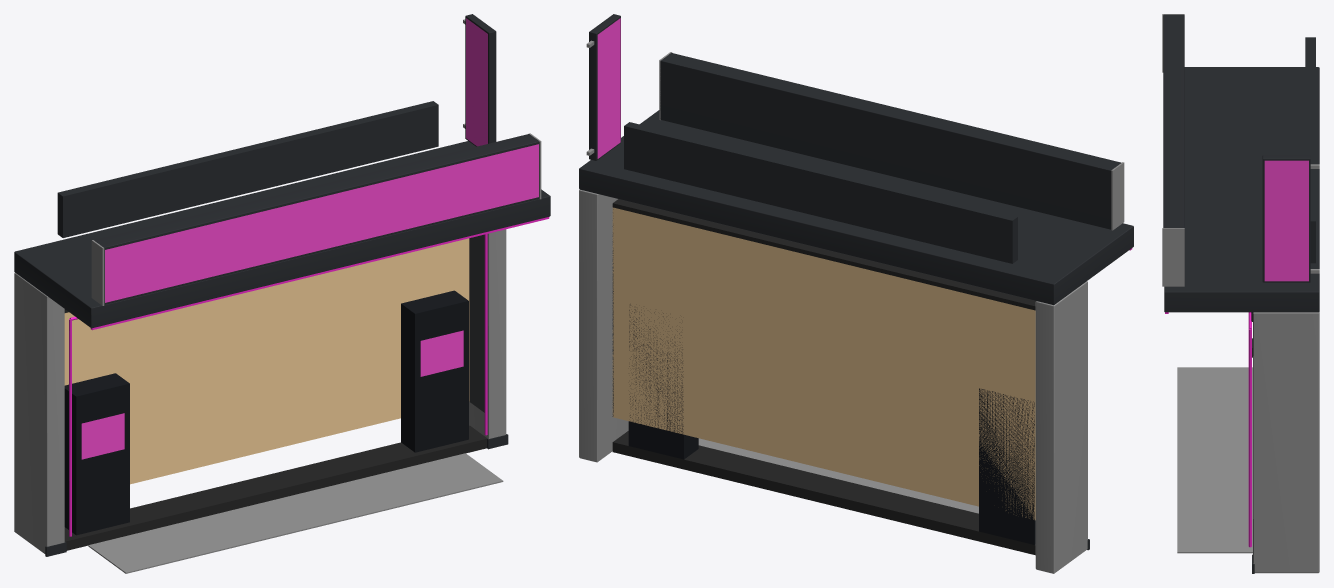
The model's file is St_Shop_Arcade_A.fbx.
3 renders of one model, left to right at view 1: azimuth 30°, elevation 25°; view 2: azimuth 150°, elevation 25°; view 3: azimuth 270°, elevation 25°, orthographic. The views are drawn at different scales.
Parts seen in each view (by area): view 1: St_Shop_Arcade_A_LOD0; view 2: St_Shop_Arcade_A_LOD0; view 3: St_Shop_Arcade_A_LOD0.
Boxes of the visible parts, left/top/right/bottom form: St_Shop_Arcade_A_LOD0: left=14, top=14, right=550, bottom=573; St_Shop_Arcade_A_LOD0: left=579, top=14, right=1133, bottom=573; St_Shop_Arcade_A_LOD0: left=1162, top=14, right=1319, bottom=573.
Size of what is drawn, in the model's own units: 6.02 by 5.12 by 1.77.
